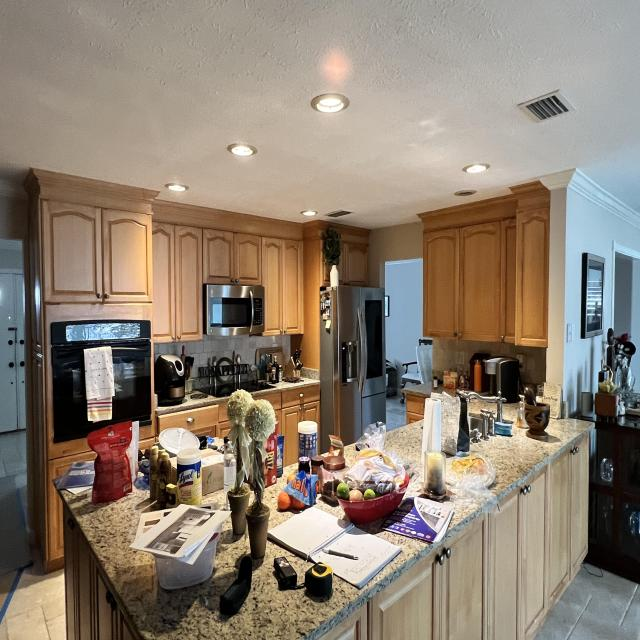Appliance_Fridge: (321, 286, 386, 451)
Appliance_Microwave: (201, 280, 265, 339)
Appliance_Oven: (48, 319, 155, 441)
Appliance_Sink: (423, 358, 512, 458)
Appliance_Stove: (198, 380, 276, 397)
Cabinet_Flat: (159, 405, 220, 430), (257, 385, 320, 409), (407, 396, 425, 415)
Cabinet_Raised_Panel: (35, 170, 320, 369), (317, 432, 590, 639), (418, 180, 551, 348), (46, 452, 98, 573), (275, 402, 318, 466), (339, 226, 370, 286), (200, 422, 230, 436), (405, 412, 423, 423), (137, 439, 155, 450)
Countertop_Granite: (58, 483, 430, 640), (440, 399, 593, 541), (385, 423, 422, 464), (157, 392, 222, 414), (254, 380, 315, 394)
